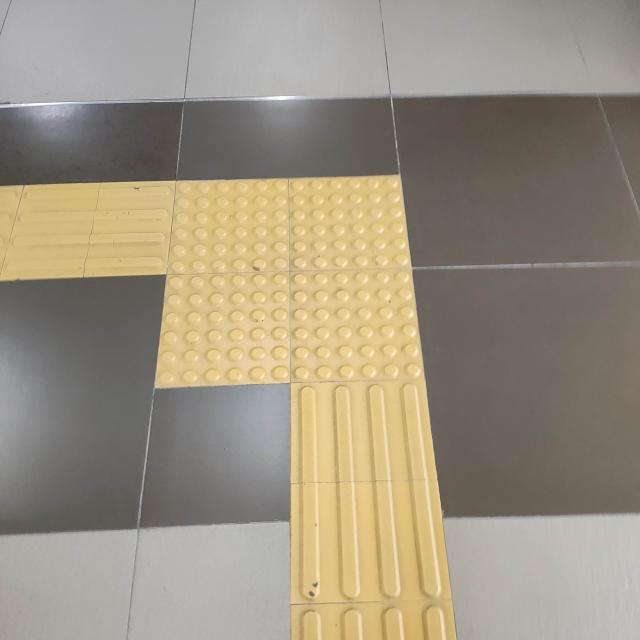kiri: (16, 140, 508, 512)
